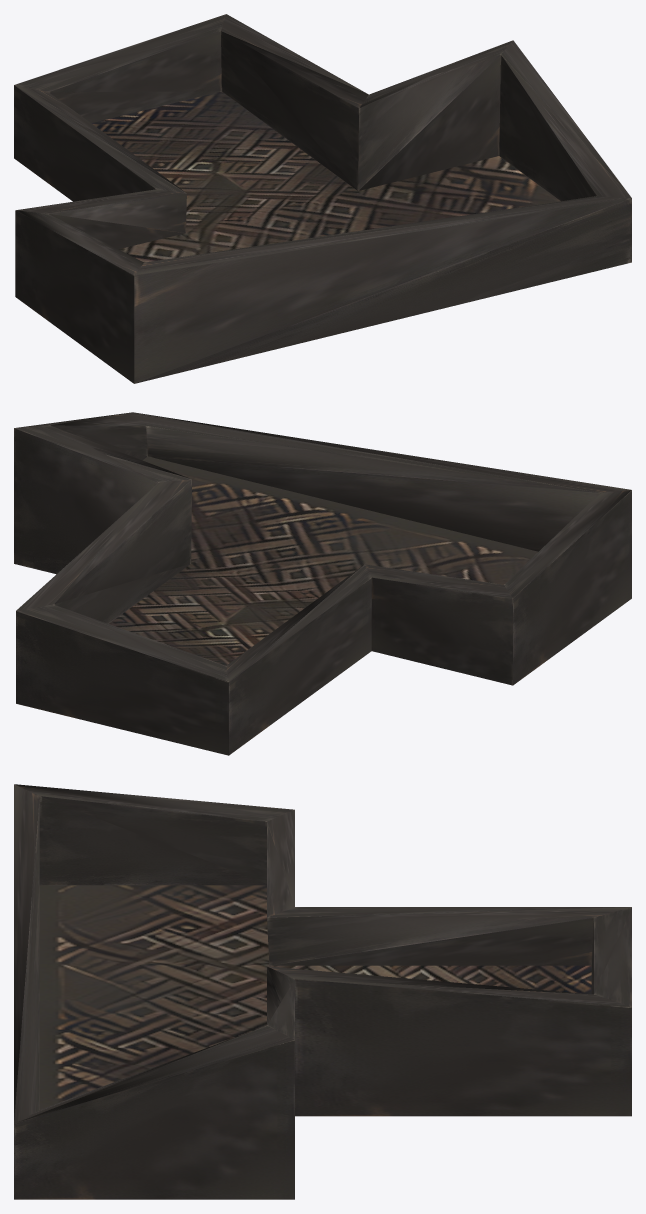
Rendered from mosqueburn.gltf.
3 renders of one model, top to bottom at view 1: azimuth 30°, elevation 25°; view 2: azimuth 150°, elevation 25°; view 3: azimuth 270°, elevation 25°, orthographic. The views are drawn at different scales.
Visible parts, largest first — view 1: mosqueburn_atomic0; view 2: mosqueburn_atomic0; view 3: mosqueburn_atomic0.
Part boxes in pixels (x1=…): mosqueburn_atomic0: x1=14, y1=14, x2=631, y2=383; mosqueburn_atomic0: x1=14, y1=412, x2=631, y2=755; mosqueburn_atomic0: x1=14, y1=784, x2=631, y2=1199.
Size of the model in its own units: 43.52 by 11.31 by 39.55.
2 materials, 2 textured.
